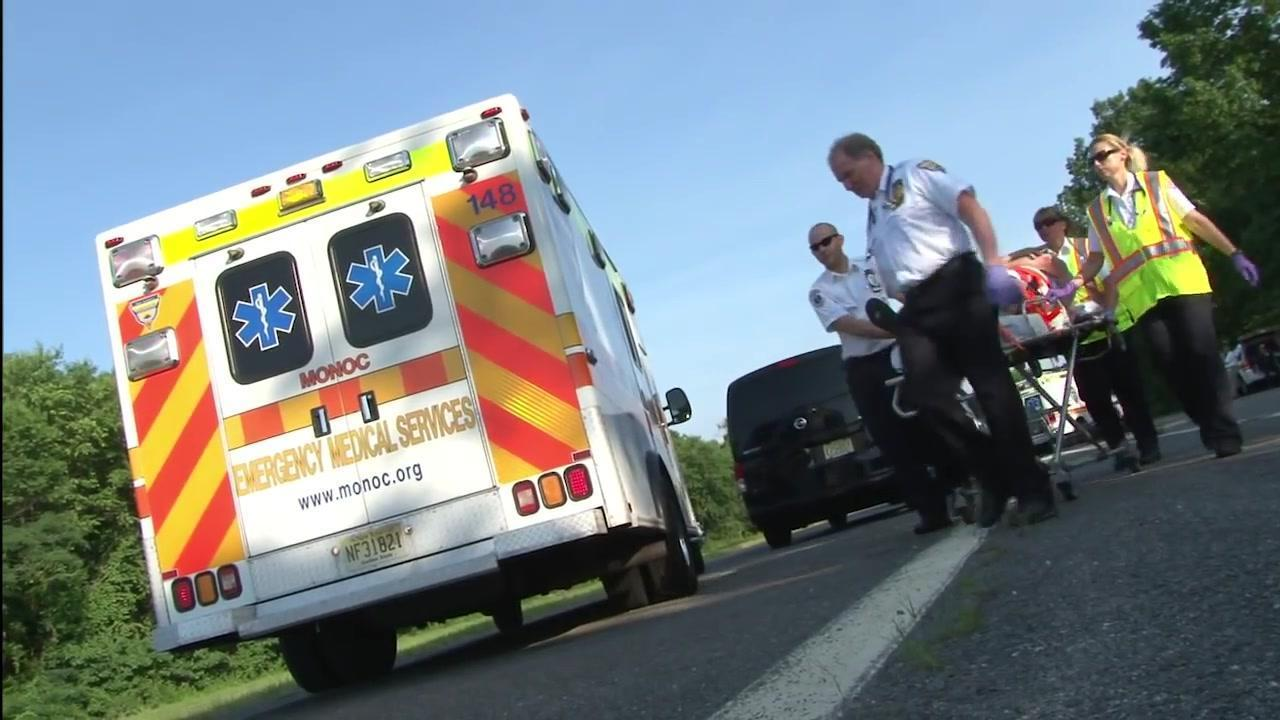vest: (1082, 165, 1216, 331), (1036, 235, 1097, 312)
